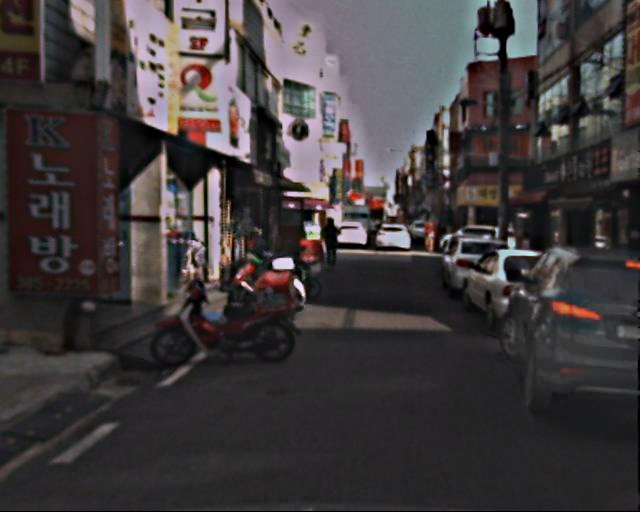person: (325, 218, 348, 273), (425, 221, 445, 254)
